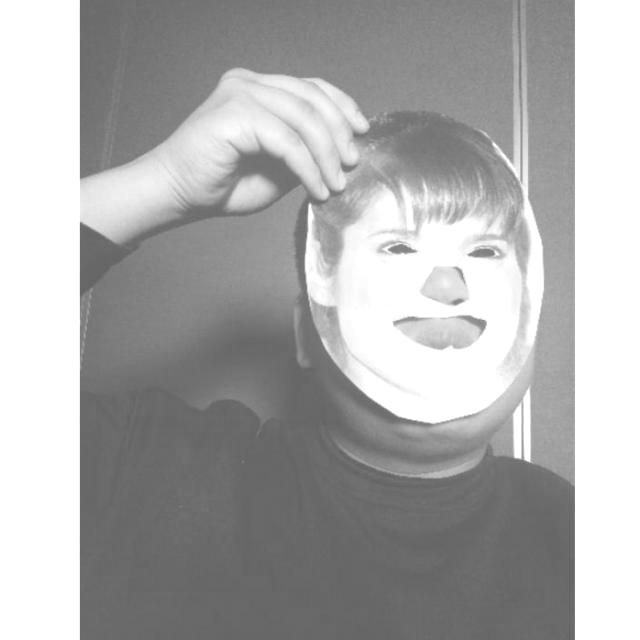fake: (306, 110, 548, 420)
